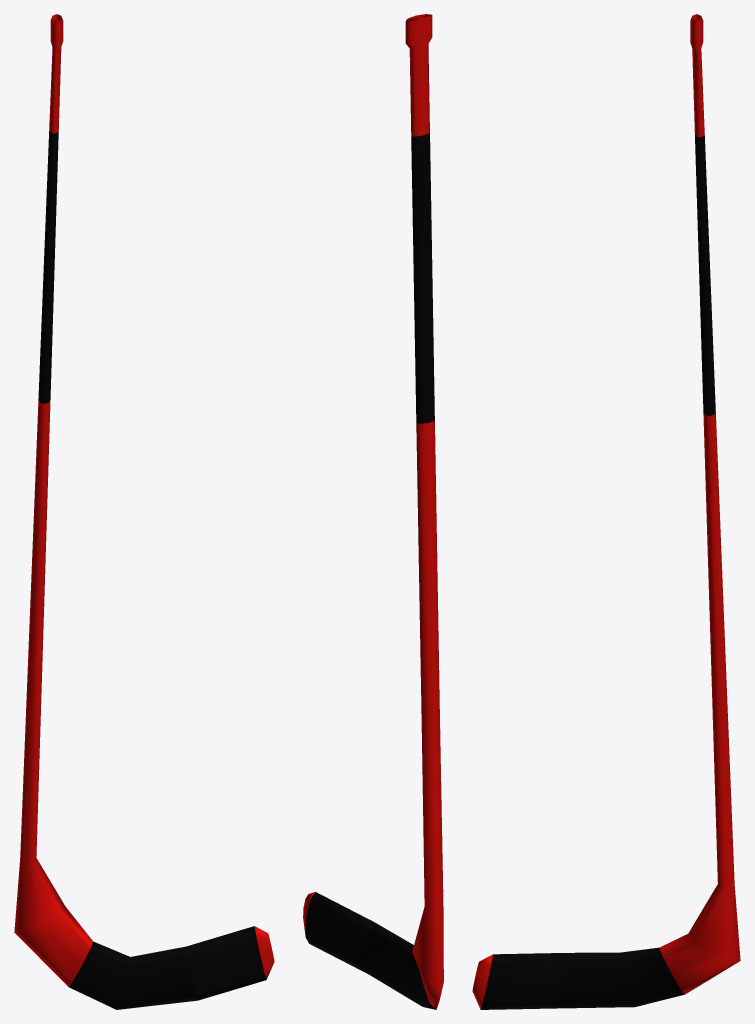
File: Paddle_1.fbx
The picture shows the model from 3 angles, left to right: view 1: azimuth 90°, elevation 25°; view 2: azimuth 210°, elevation 25°; view 3: azimuth 270°, elevation 25°; orthographic projection. The views are drawn at different scales.
Parts seen in each view (by area): view 1: Cylinder.005; view 2: Cylinder.005; view 3: Cylinder.005.
Boxes of the visible parts, x1,y1,x2,y2 form: Cylinder.005: (14,14,274,1009); Cylinder.005: (303,14,443,1009); Cylinder.005: (472,14,740,1009).
Bounding box in the file's own units: 16.04 × 286 × 69.16.
